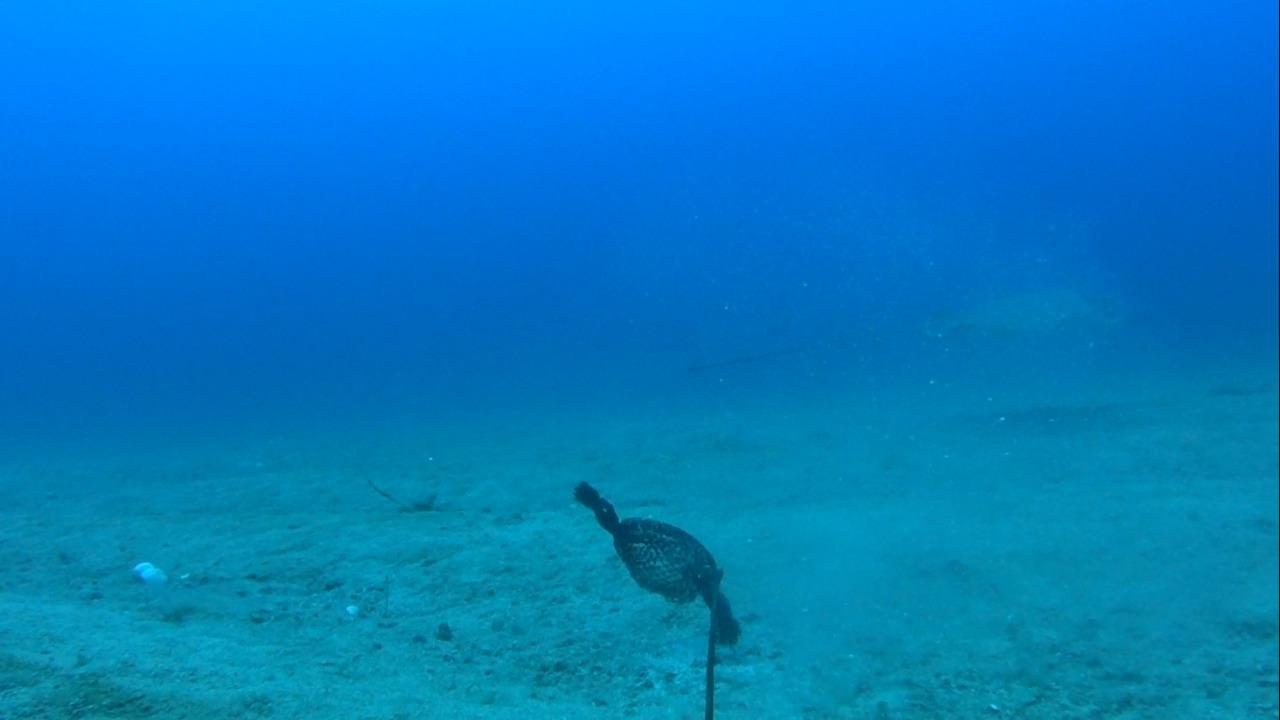myliobatis: (677, 277, 1143, 390)
